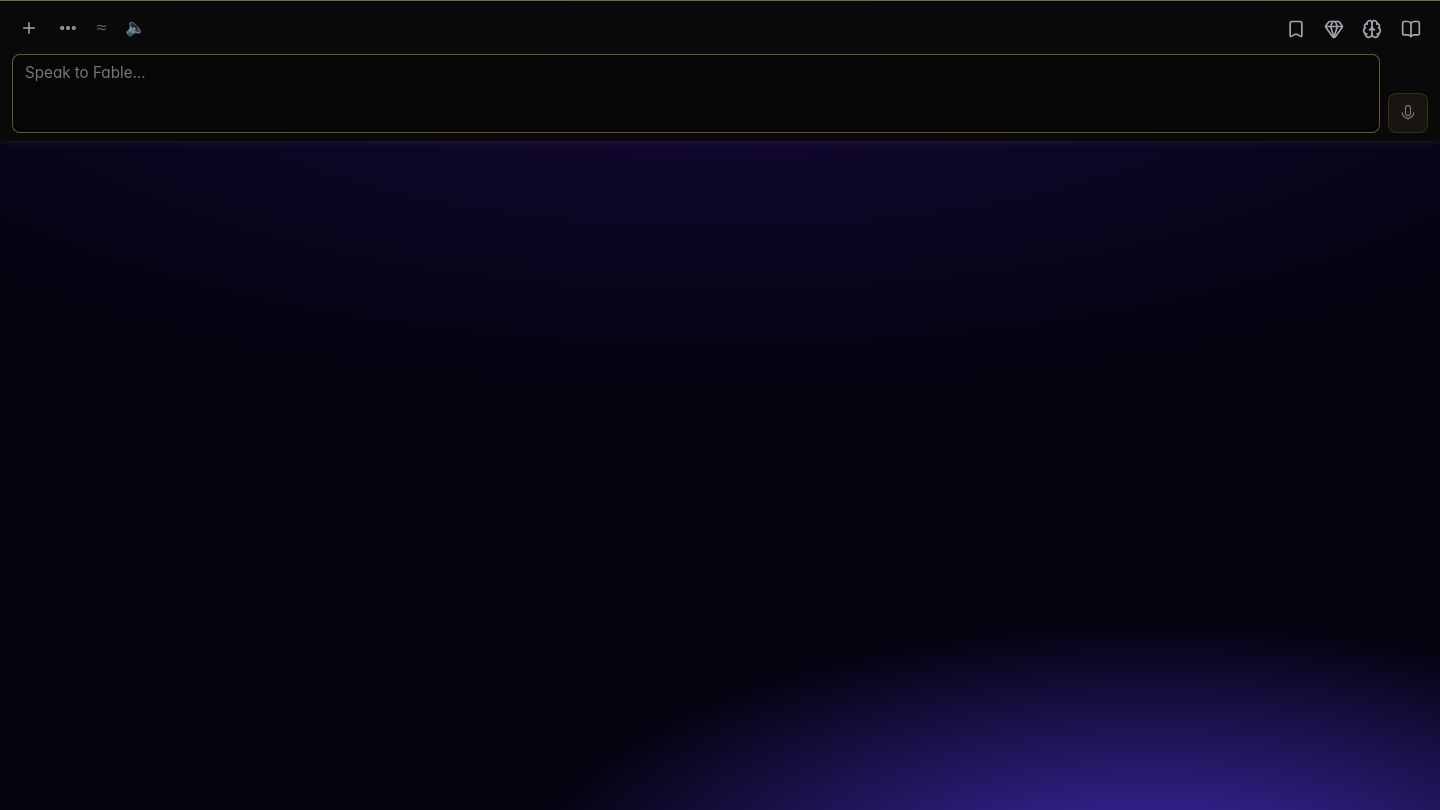
Test case: cockpit voice-mode toggle › shows the provider-specific reason for no-provider
This screenshot has width=1440, height=810.
Step 1. Click the button named "read replies aloud" → (135, 28), box 118,9 -> 153,47
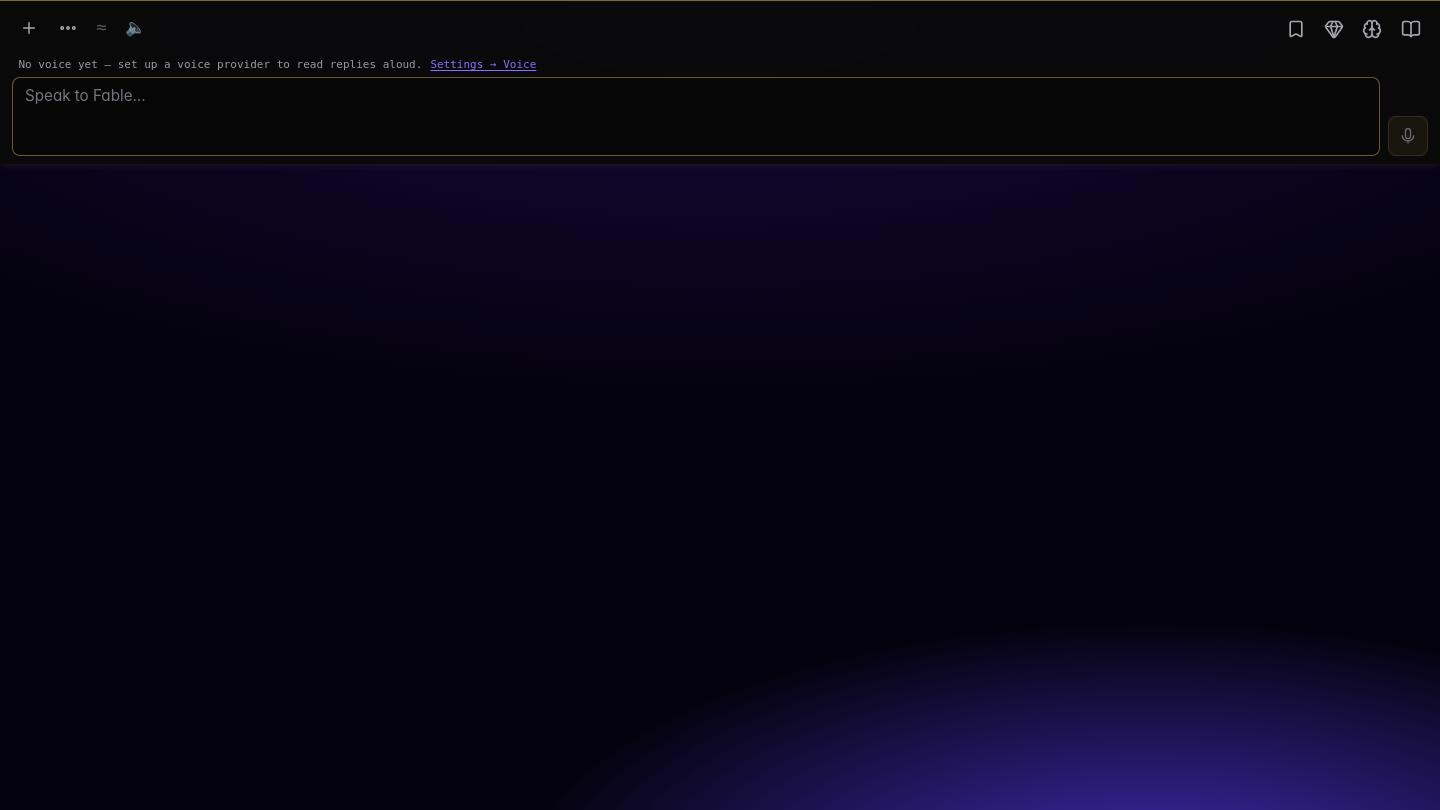
Expected: the text "set up a voice provider" is shown, 18,58 -> 422,71
